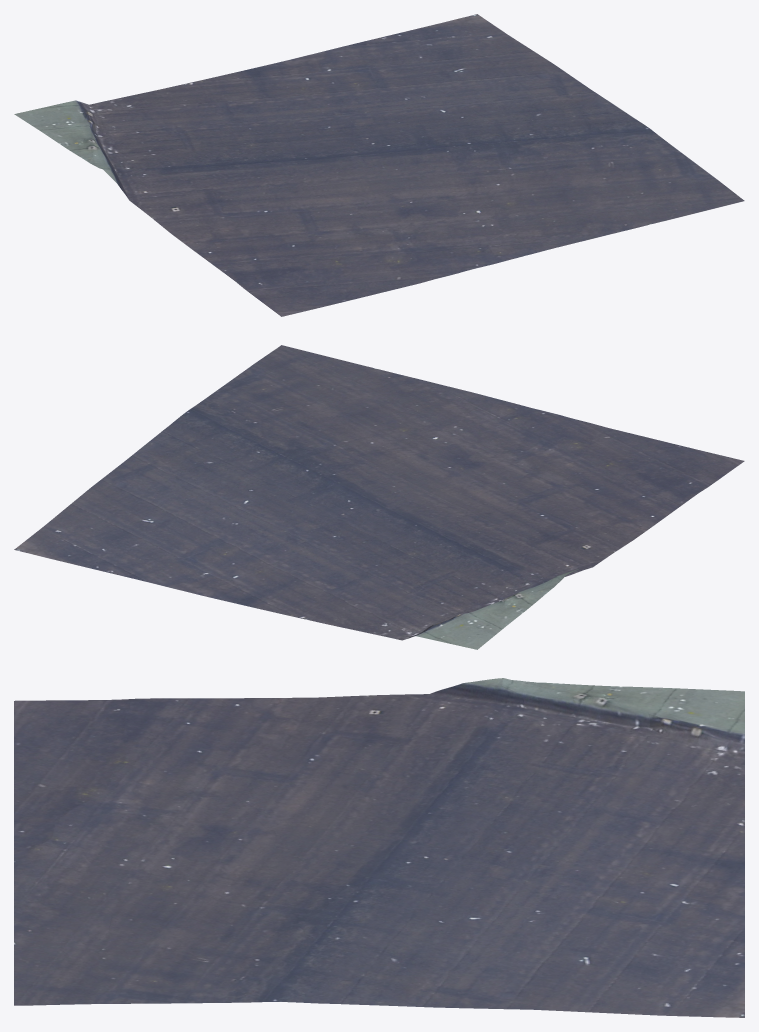
The picture shows the model from 3 angles, top to bottom: view 1: azimuth 30°, elevation 25°; view 2: azimuth 150°, elevation 25°; view 3: azimuth 270°, elevation 25°; orthographic projection. The views are drawn at different scales.
Size of the model in its own units: 8.36 by 0.3936 by 8.36.
2 materials, 2 textured.
